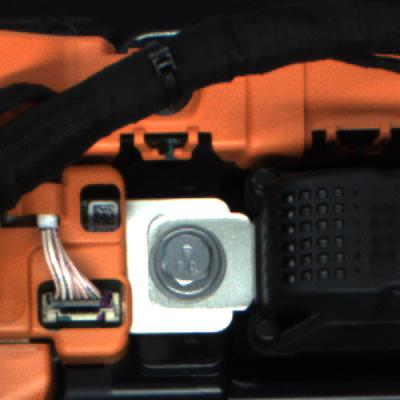nut_b: (141, 221, 234, 306)
